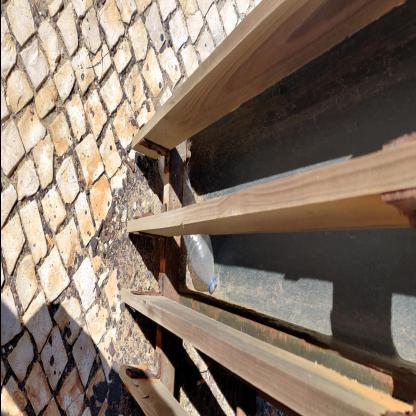plastik: (158, 153, 217, 294)
